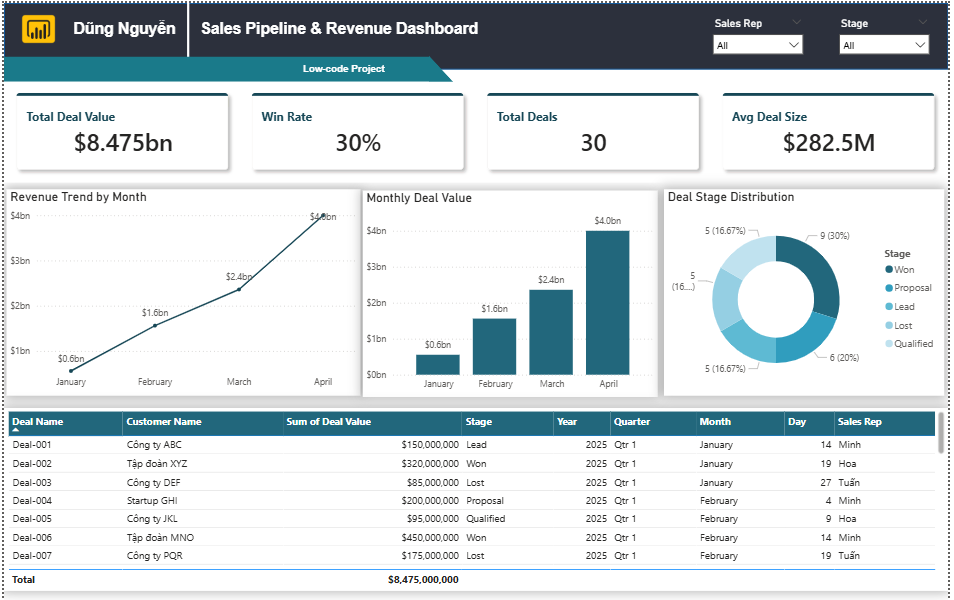

What the dashboard file says about the page in this screenshot:
{"tool":"powerbi","page":{"name":"Page 1","canvas":[1280,820],"ordinal":0},"visuals":[{"type":"shape","box":[575.7,70.9,32.9,35.7],"z":0,"group":"g1"},{"type":"lineChart","title":"Revenue Trend by Month","fields":{"Category":["cre2e_deals.Expected Close Date.Variation.Date Hierarchy.Month","cre2e_deals.Expected Close Date.Variation.Date Hierarchy.Day"],"Y":["Sum(cre2e_deals.Deal Value)"]},"box":[2.9,252.9,480,280],"z":0},{"type":"shape","box":[0,72.8,576.5,33.7],"z":1000,"group":"g1"},{"type":"clusteredColumnChart","title":"Monthly Deal Value","fields":{"Category":["cre2e_deals.Expected Close Date.Variation.Date Hierarchy.Month","cre2e_deals.Expected Close Date.Variation.Date Hierarchy.Day"],"Y":["Sum(cre2e_deals.Deal Value)"]},"box":[487.1,254.3,400,280],"z":1000},{"type":"cardVisual","fields":{"Data":["Sum(cre2e_deals.Deal Value)","Measure.Win Rate","CountNonNull(cre2e_deals.Deal Name)","Avg(cre2e_deals.Deal Value)"]},"box":[0,105.7,1280,138.6],"z":2000},{"type":"tableEx","fields":{"Values":["cre2e_deals.Deal Name","cre2e_deals.Customer Name","Sum(cre2e_deals.Deal Value)","cre2e_deals.Stage","cre2e_deals.Expected Close Date.Variation.Date Hierarchy.Year","cre2e_deals.Expected Close Date.Variation.Date Hierarchy.Quarter","cre2e_deals.Expected Close Date.Variation.Date Hierarchy.Month","cre2e_deals.Expected Close Date.Variation.Date Hierarchy.Day","cre2e_deals.Sales Rep"]},"box":[0,548.3,1280,248.3],"z":3000},{"type":"shape","box":[0,0,1280.3,90.1],"z":4000},{"type":"slicer","fields":{"Values":["cre2e_deals.Sales Rep"]},"box":[951.2,13.3,142.9,61.4],"z":5000},{"type":"textbox","box":[60.9,18.8,205,55],"z":6000},{"type":"shape","box":[221.5,0,55.4,90],"z":7000},{"type":"group","id":"g1","title":"Group 1","box":[0,70.9,608.6,35.7],"z":8000},{"type":"textbox","box":[240,18.7,427.5,54.2],"z":9000},{"type":"textbox","box":[400,75,165.5,38],"z":10000},{"type":"image","box":[14.4,7.8,63.3,53.3],"z":11000},{"type":"slicer","fields":{"Values":["cre2e_deals.Stage"]},"box":[1121.2,13.3,142.9,61.4],"z":12000},{"type":"donutChart","title":"Deal Stage Distribution","fields":{"Category":["cre2e_deals.Stage"],"Y":["CountNonNull(cre2e_deals.Deal Name)"]},"box":[894.3,252.9,380,280],"z":13000}]}

Visuals, with their boxes in screenshot pixels (x1, y1, x2, y2), scaled from the page's 1280x820 canvas onto the 954x600 screenshot:
shape: <bbox>429, 52, 454, 78</bbox>
"Revenue Trend by Month" lineChart: <bbox>2, 185, 360, 390</bbox>
shape: <bbox>0, 53, 430, 78</bbox>
"Monthly Deal Value" clusteredColumnChart: <bbox>363, 186, 661, 391</bbox>
cardVisual - Sum(cre2e_deals.Deal Value) x Measure.Win Rate: <bbox>0, 77, 953, 179</bbox>
tableEx - cre2e_deals.Deal Name x cre2e_deals.Customer Name: <bbox>0, 401, 953, 583</bbox>
shape: <bbox>0, 0, 953, 66</bbox>
slicer - cre2e_deals.Sales Rep: <bbox>709, 10, 815, 55</bbox>
textbox: <bbox>45, 14, 198, 54</bbox>
shape: <bbox>165, 0, 206, 66</bbox>
"Group 1" group: <bbox>0, 52, 454, 78</bbox>
textbox: <bbox>179, 14, 497, 53</bbox>
textbox: <bbox>298, 55, 421, 83</bbox>
image: <bbox>11, 6, 58, 45</bbox>
slicer - cre2e_deals.Stage: <bbox>836, 10, 942, 55</bbox>
"Deal Stage Distribution" donutChart: <bbox>667, 185, 950, 390</bbox>
